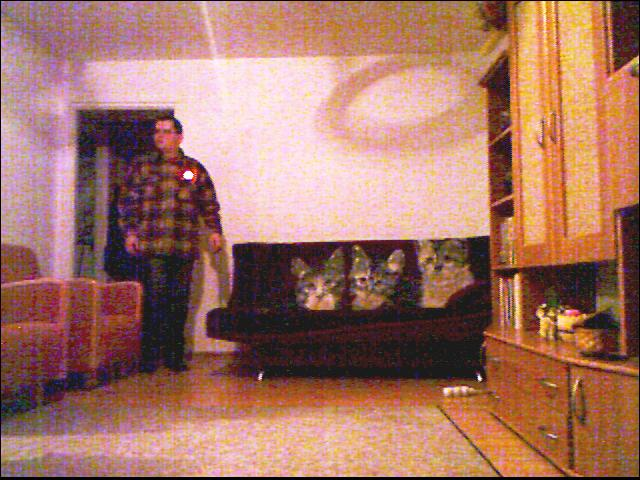walking: (76, 106, 220, 388)
